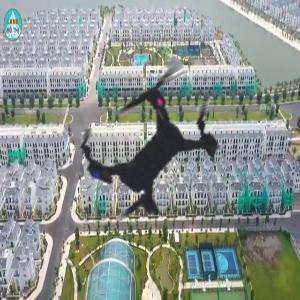drone: (22, 17, 276, 271)
